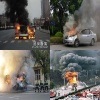fire: (3, 73, 26, 87), (15, 24, 35, 40), (65, 71, 78, 87), (66, 24, 79, 37)
